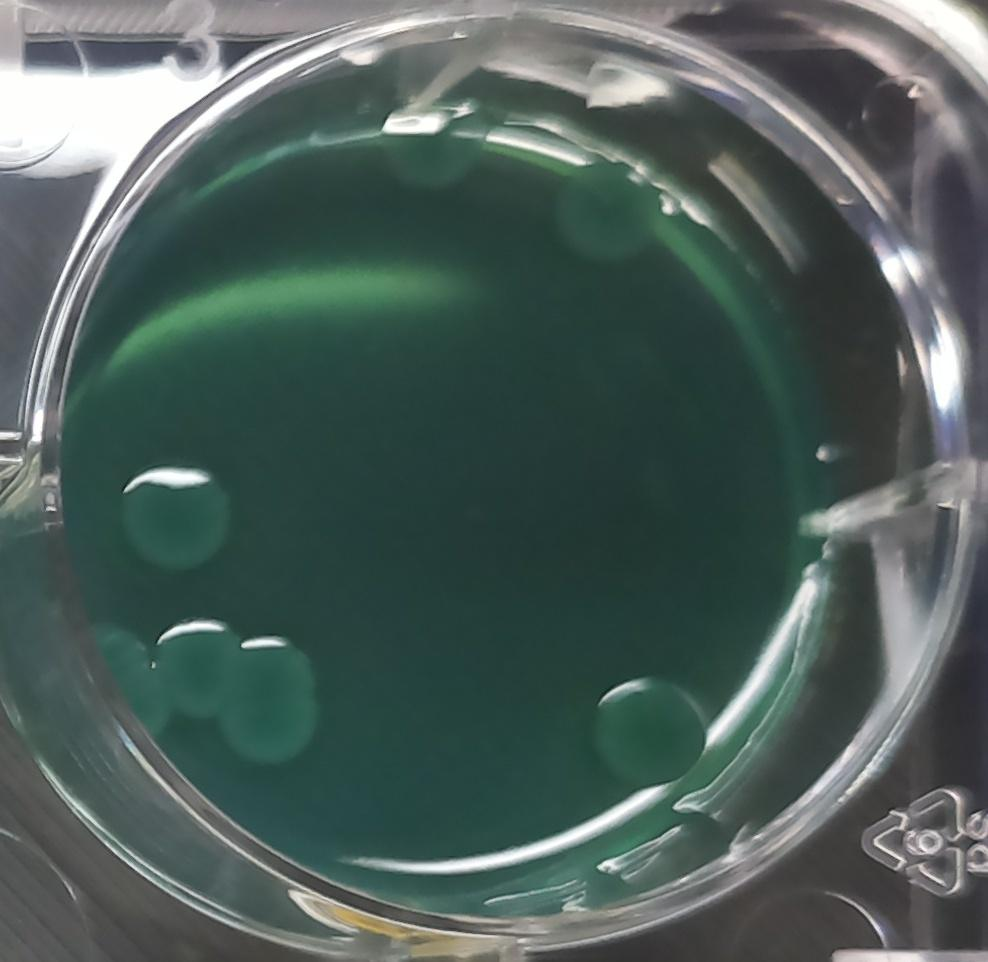vproteolyticus: (105, 451, 241, 579), (586, 664, 716, 795), (223, 632, 328, 771), (549, 154, 670, 269), (150, 610, 244, 716)
